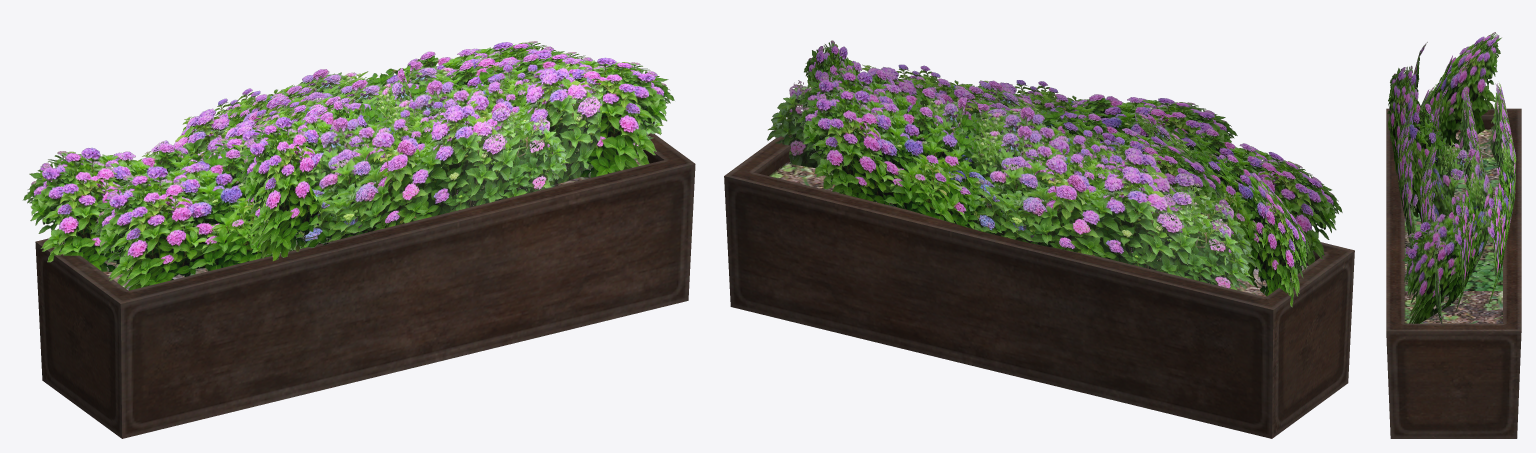
Rendered from Balcony_Pot_01.fbx.
3 renders of one model, left to right at view 1: azimuth 30°, elevation 25°; view 2: azimuth 150°, elevation 25°; view 3: azimuth 270°, elevation 25°, orthographic. The views are drawn at different scales.
Visible parts, largest first — view 1: Balcony_Pot_01; view 2: Balcony_Pot_01; view 3: Balcony_Pot_01.
Part boxes in pixels (<box>): Balcony_Pot_01: <box>22,41,695,438</box>; Balcony_Pot_01: <box>724,40,1354,438</box>; Balcony_Pot_01: <box>1386,32,1521,438</box>.
Bounding box in the file's own units: 90.25 × 38.77 × 21.92.
